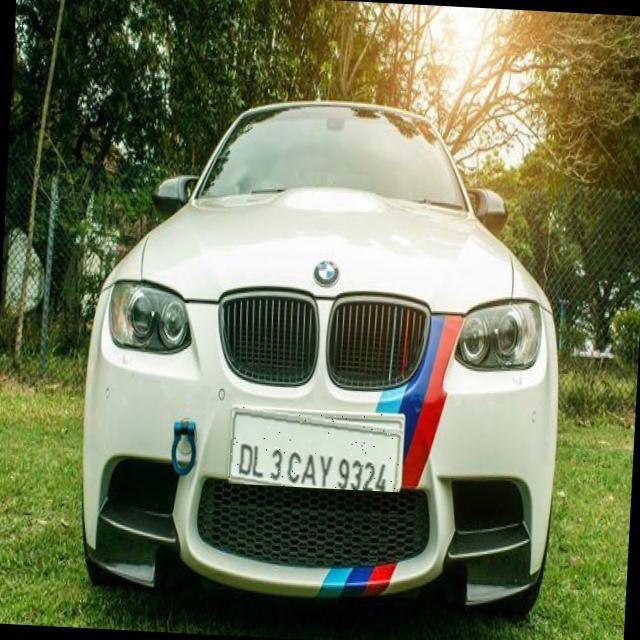Plate: (229, 407, 405, 494)
